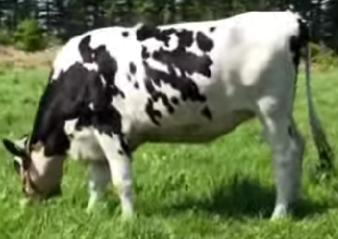cow: (2, 11, 333, 221)
